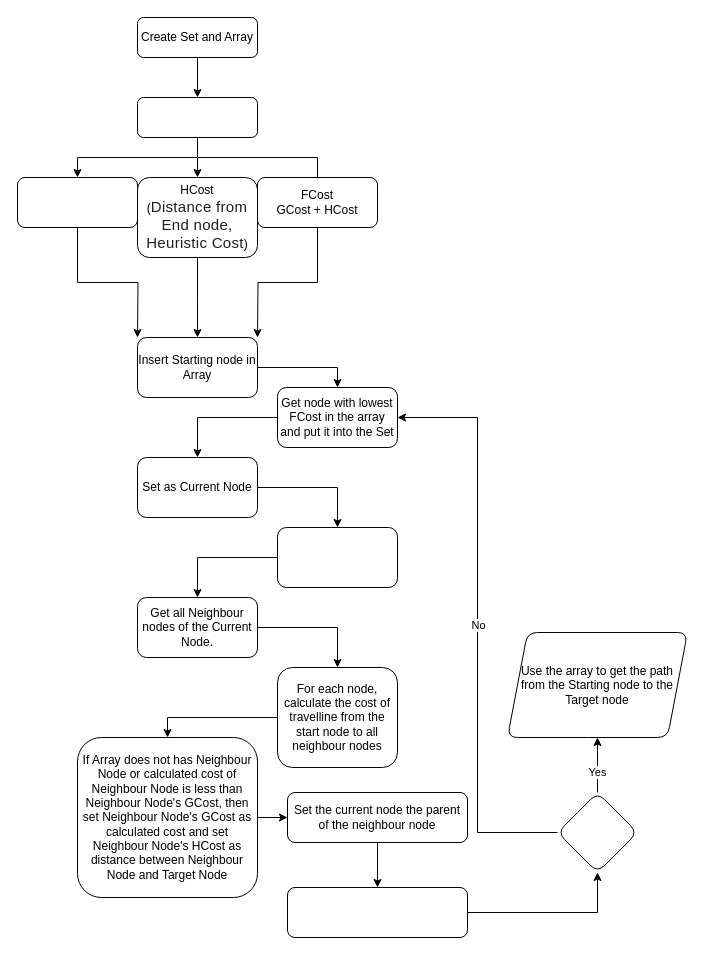
Image size: 705x955. Some labels were removed from this diagram. The shapes that lost their labels are listed below. From the top down, each one's centre as x and y in pixels, then its label:
At (x=197, y=117): "For each node, create:".
At (x=77, y=202): "GCost (Distance from starting Node)".
At (x=337, y=557): "Remove node with lowest FCost from the Array and place it in Set".
At (x=597, y=832): "Is Target node found?".
At (x=377, y=912): "Put the Neighbour Node in the Array.".
